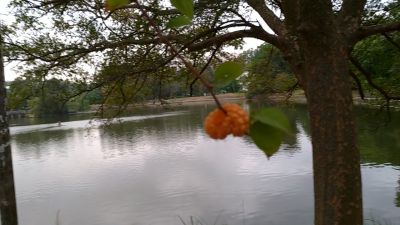eggs: (204, 102, 250, 140)
